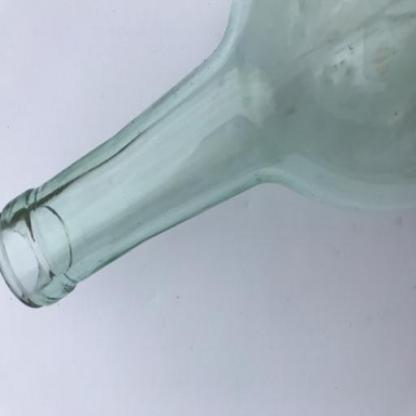trash: (1, 2, 415, 314)
